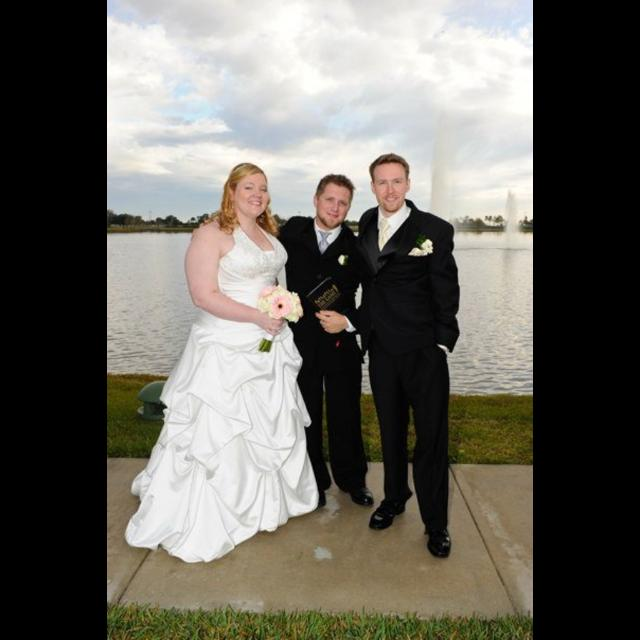Flower: (258, 288, 304, 320)
